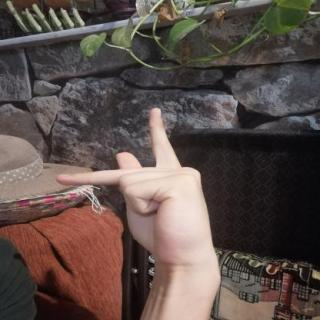DHAA: (42, 99, 222, 269)
